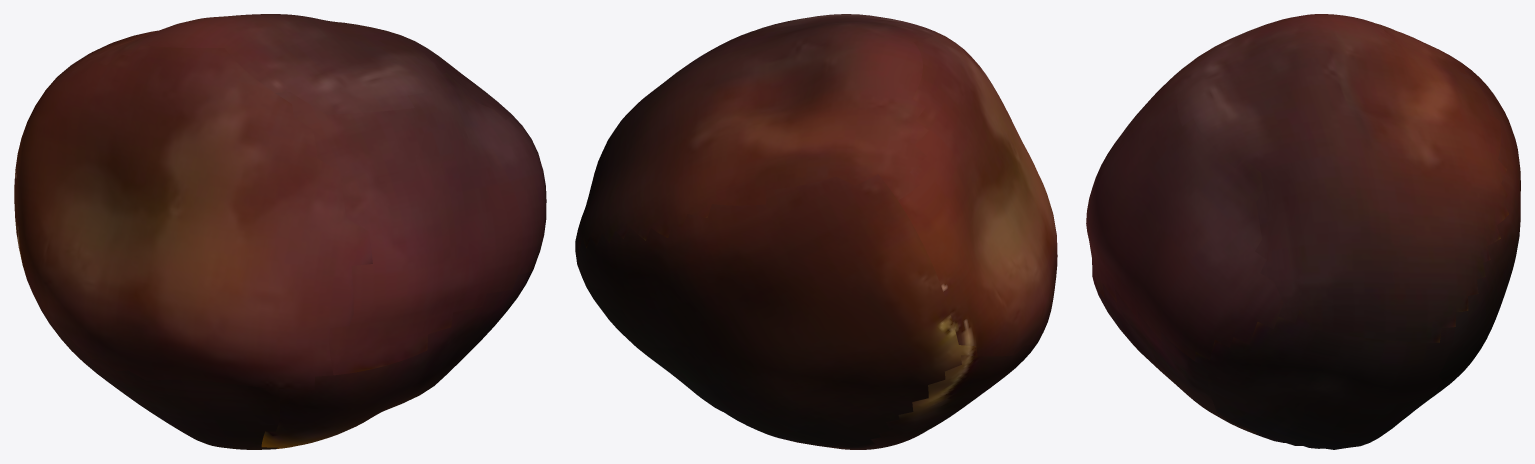
Rendered from fruit_4.glb.
3 views of the same model, side by side, from view 1: azimuth 30°, elevation 25°; view 2: azimuth 150°, elevation 25°; view 3: azimuth 270°, elevation 25° (orthographic). The views are drawn at different scales.
Visible parts, largest first — view 1: w_fruit_4; view 2: w_fruit_4; view 3: w_fruit_4.
Boxes of the visible parts, x1,y1,x2,y2 form: w_fruit_4: [14, 14, 546, 449]; w_fruit_4: [575, 14, 1057, 449]; w_fruit_4: [1086, 14, 1520, 449].
Bounding box in the file's own units: 0.0789 × 0.0677 × 0.0717.
Materials: 1 (1 with a texture image).
